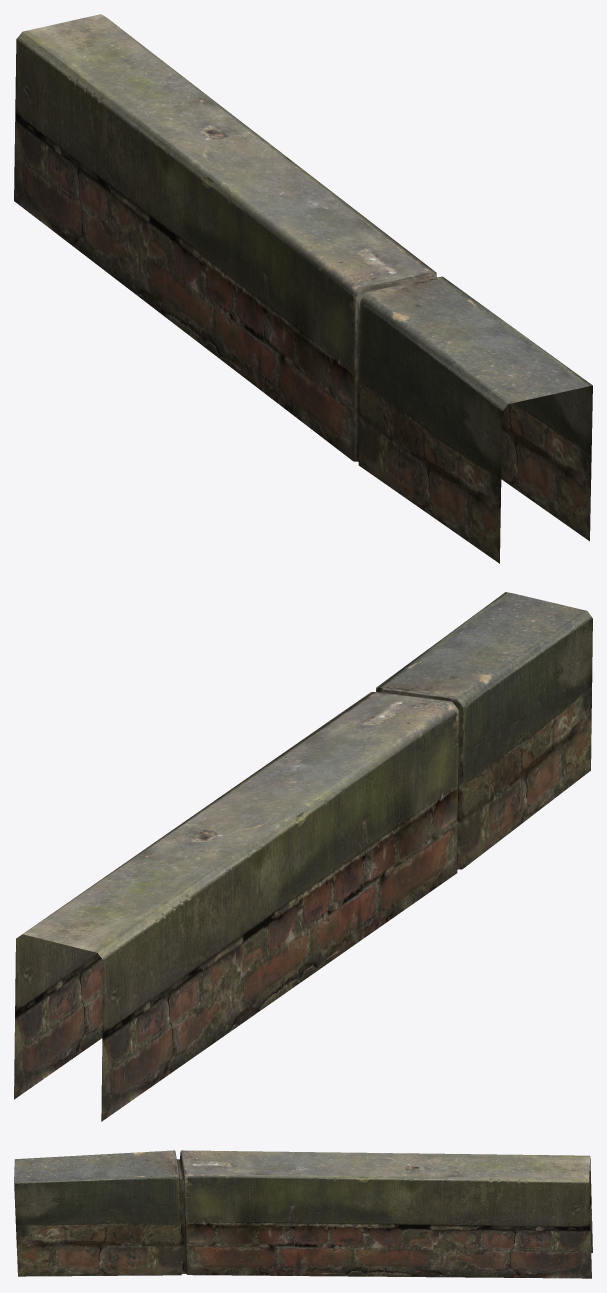
File: sm_PlatformColumns_01_05.fbx
3 renders of one model, top to bottom at view 1: azimuth 30°, elevation 25°; view 2: azimuth 150°, elevation 25°; view 3: azimuth 270°, elevation 25°, orthographic. The views are drawn at different scales.
Parts seen in each view (by area): view 1: sm_PlatformColumns_01_05_LOD0; view 2: sm_PlatformColumns_01_05_LOD0; view 3: sm_PlatformColumns_01_05_LOD0.
Part boxes in pixels (<box>): sm_PlatformColumns_01_05_LOD0: <box>14,14,592,563</box>; sm_PlatformColumns_01_05_LOD0: <box>14,592,592,1121</box>; sm_PlatformColumns_01_05_LOD0: <box>14,1150,592,1278</box>.
Bounding box in the file's own units: 22.18 × 186 × 35.69.
